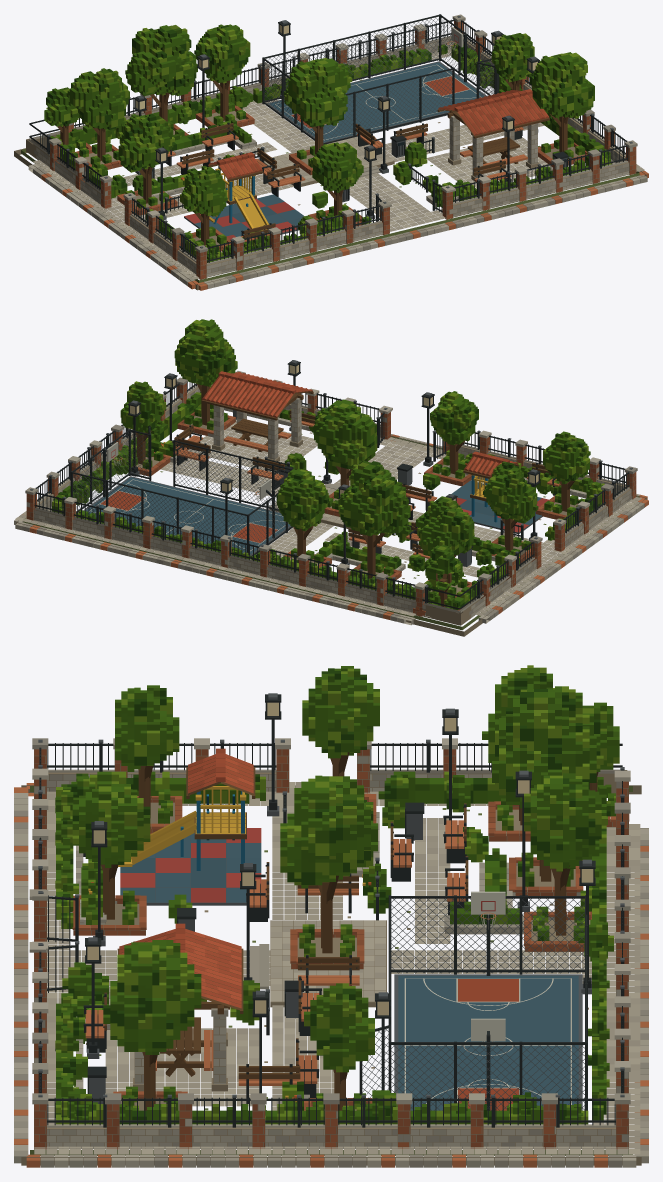
File: SM_StreetFrontage_121.fbx
3 views of the same model, one above another, from view 1: azimuth 30°, elevation 25°; view 2: azimuth 150°, elevation 25°; view 3: azimuth 270°, elevation 25° (orthographic). The views are drawn at different scales.
Parts seen in each view (by area): view 1: SM_StreetFrontage_121; view 2: SM_StreetFrontage_121; view 3: SM_StreetFrontage_121.
Part boxes in pixels (x1,y1,x2,y2): SM_StreetFrontage_121: (14,14,648,290); SM_StreetFrontage_121: (14,319,648,636); SM_StreetFrontage_121: (14,665,648,1167).
Bounding box in the file's own units: 80 × 56.85 × 19.9.
